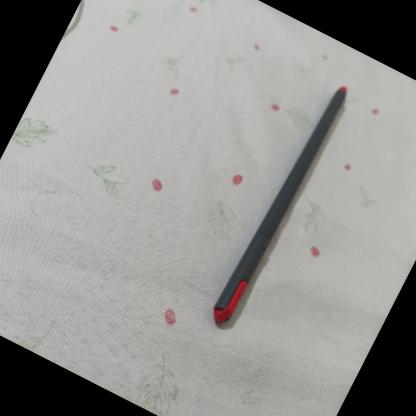pencil: (203, 70, 354, 331)
